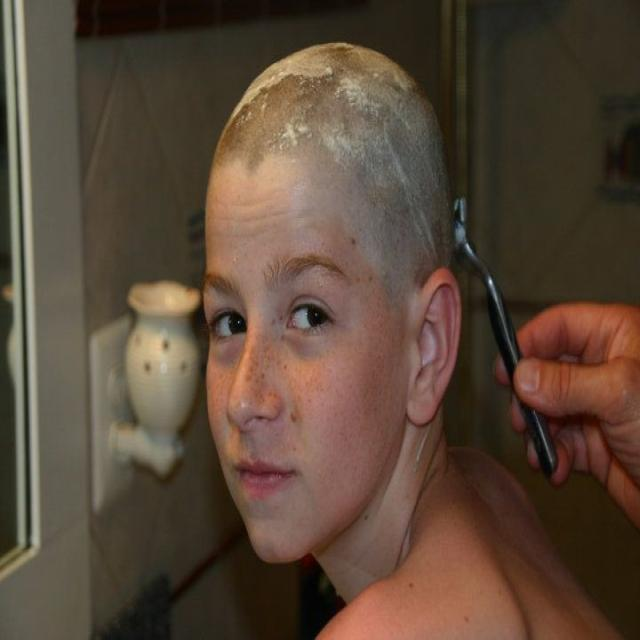no_helmet: (191, 22, 469, 294)
